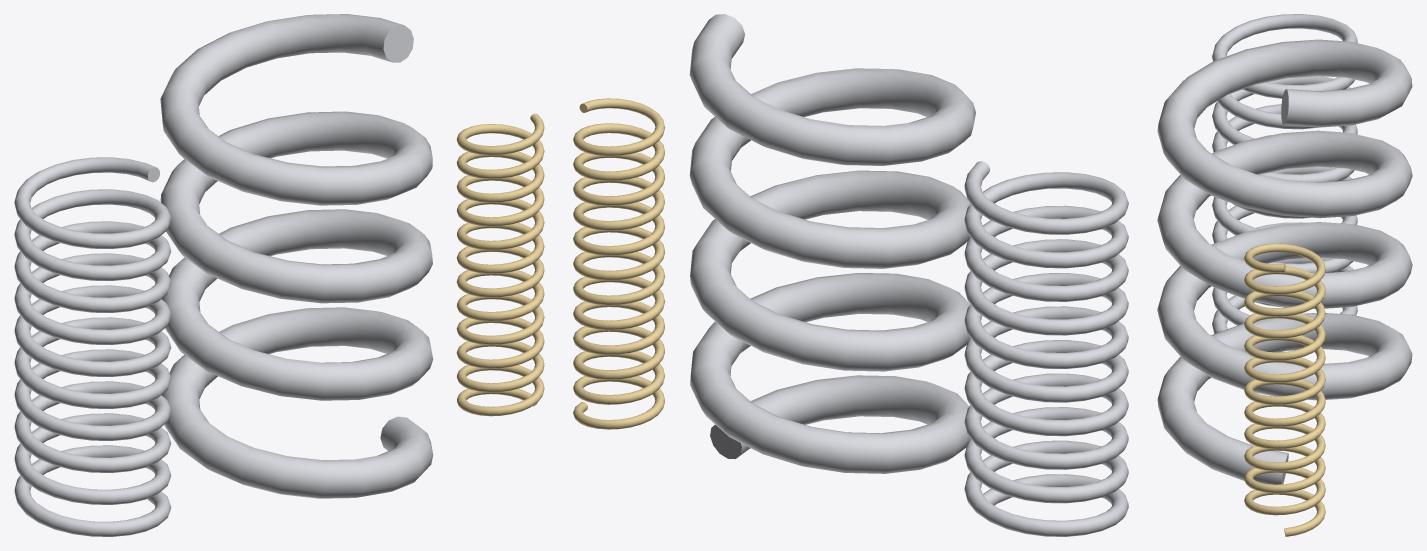
Rendered from coil_spring.glb.
3 renders of one model, left to right at view 1: azimuth 30°, elevation 25°; view 2: azimuth 150°, elevation 25°; view 3: azimuth 270°, elevation 25°, orthographic. The views are drawn at different scales.
Parts seen in each view (by area): view 1: hose, spring, thread; view 2: hose, spring, thread; view 3: hose, thread, spring.
Part boxes in pixels (x1,y1,x2,y2): hose: (160,14,433,498); spring: (14,157,171,536); thread: (456,113,544,416); hose: (689,14,975,473); spring: (964,161,1128,536); thread: (573,98,665,429); hose: (1157,39,1412,484); thread: (1244,243,1325,536); spring: (1212,14,1357,352).
Size of the model in its own units: 1.51 by 1.2 by 0.7.
